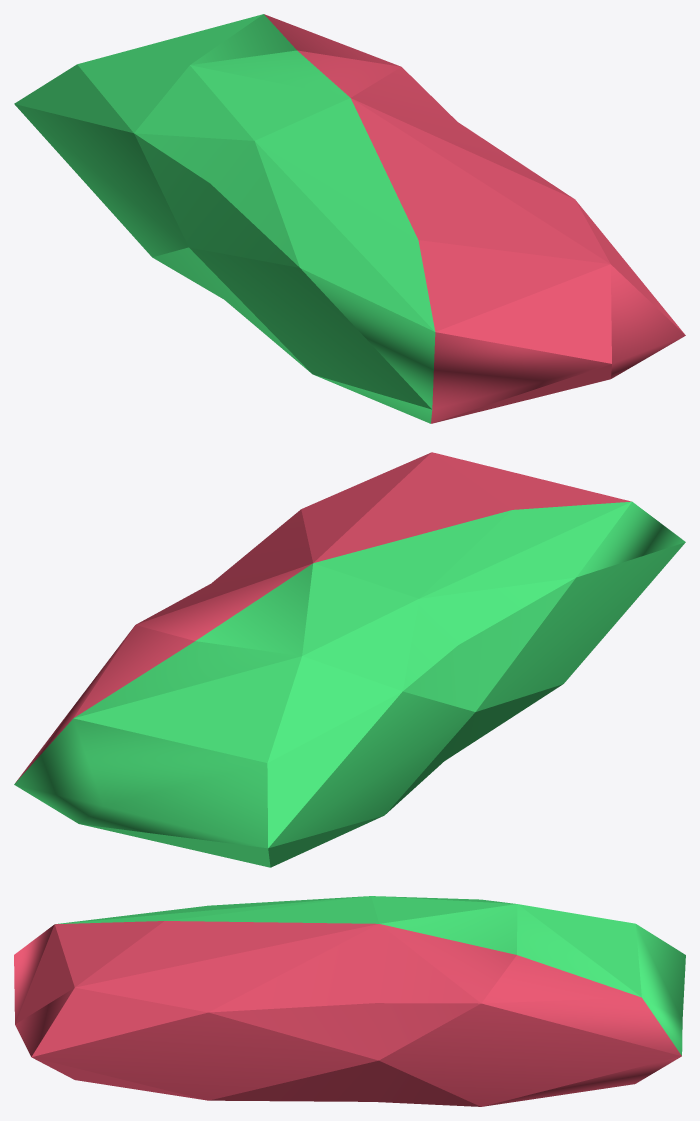
File: Snack9.fbx
3 views of the same model, one above another, from view 1: azimuth 30°, elevation 25°; view 2: azimuth 150°, elevation 25°; view 3: azimuth 270°, elevation 25° (orthographic). The views are drawn at different scales.
Visible parts, largest first — view 1: Snack9; view 2: Snack9; view 3: Snack9.
Boxes of the visible parts, box(x1,y1,x2,y2) form: Snack9: box(14, 14, 685, 423); Snack9: box(14, 452, 685, 867); Snack9: box(14, 896, 685, 1106).
Size of the model in its own units: 11.46 by 7.82 by 28.75.
